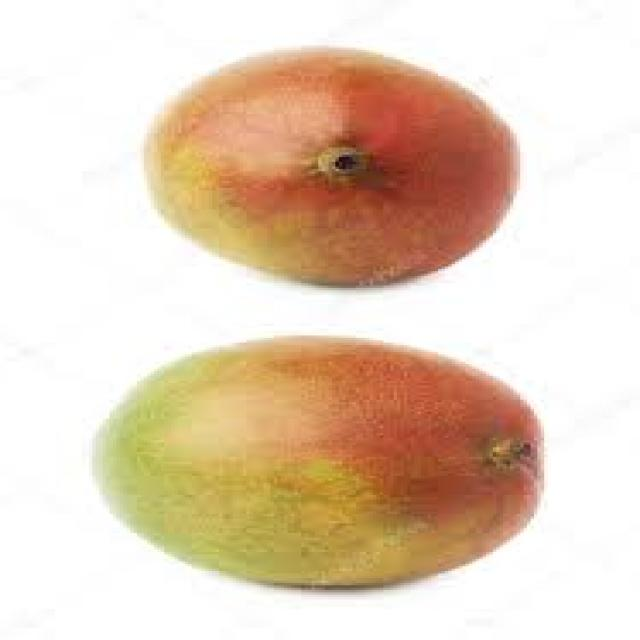organic waste: (92, 336, 544, 588), (140, 43, 517, 288)
